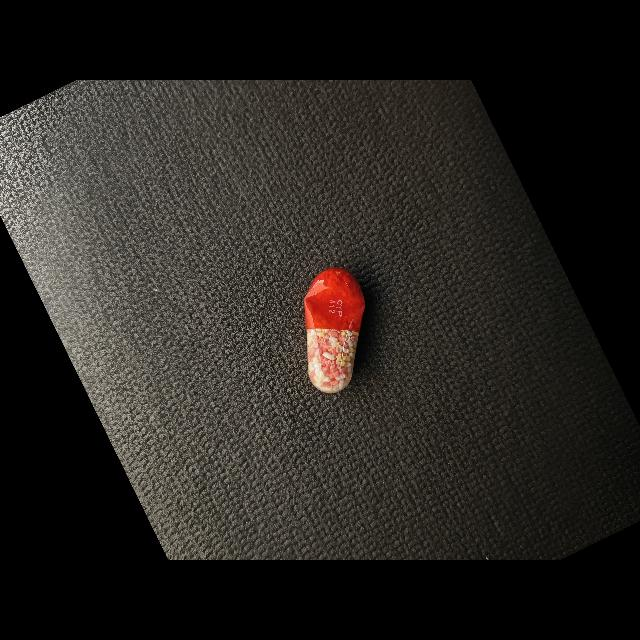Defective Capsule: (304, 268, 365, 393)
